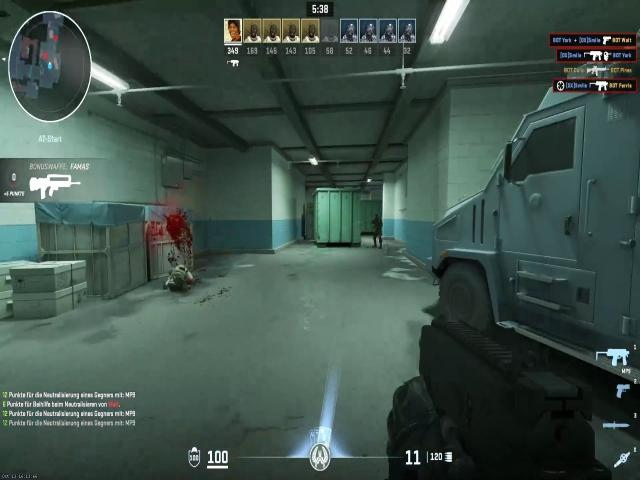CT: (369, 214, 384, 242)
Dead: (159, 261, 198, 299)
